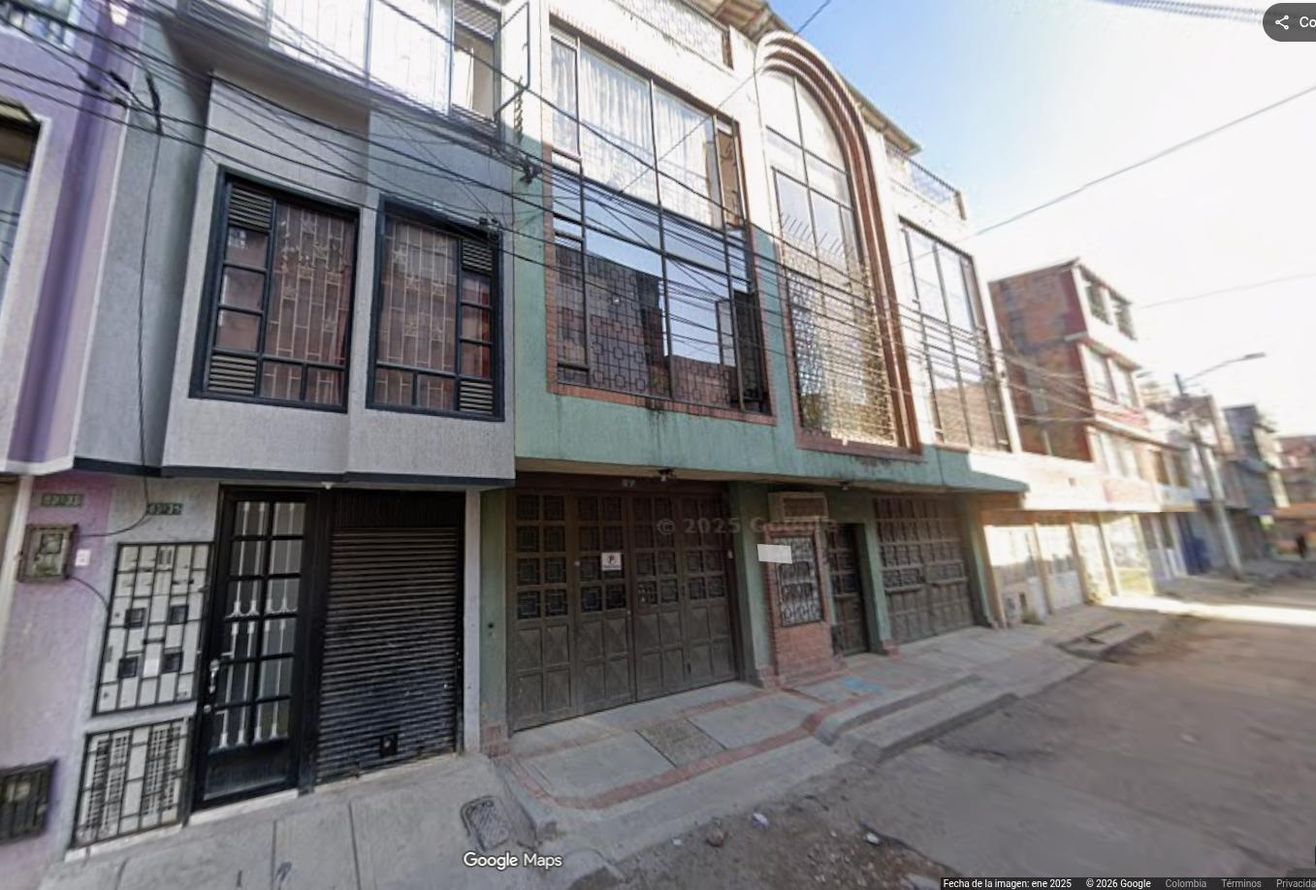casa: (0, 0, 534, 846), (495, 0, 1023, 731)
poste: (1189, 414, 1241, 579), (1207, 354, 1261, 369), (1174, 373, 1187, 397)
